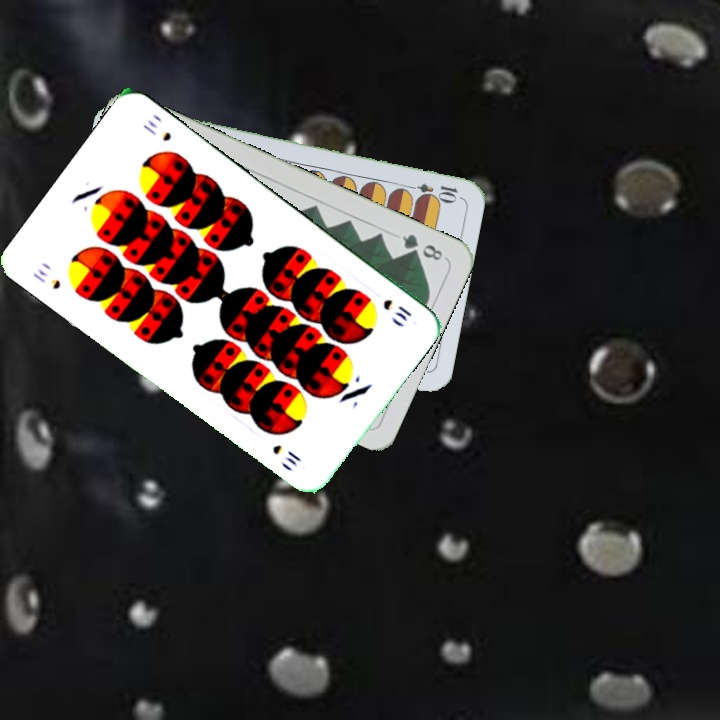E10: (401, 179, 460, 202)
G8: (398, 230, 446, 263)
S10: (378, 295, 415, 324), (29, 264, 64, 293)
